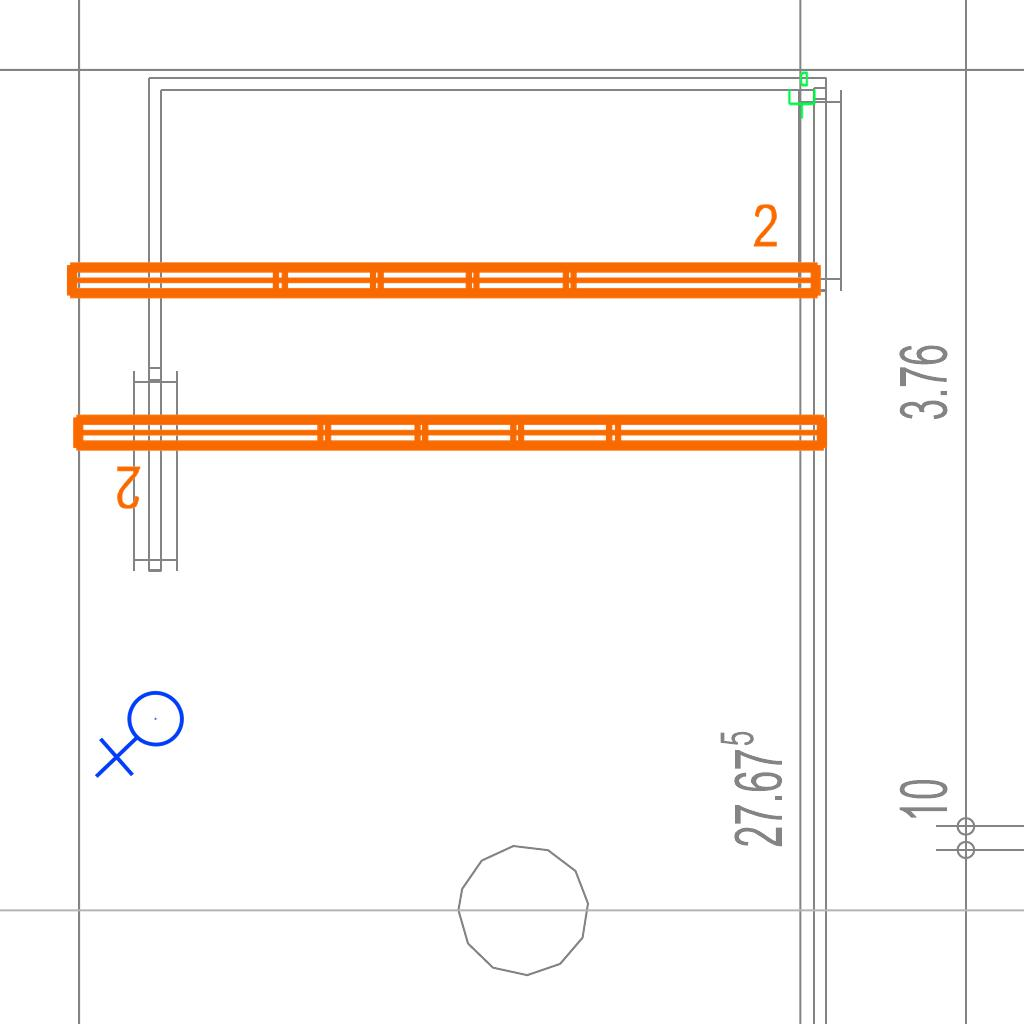Ambulanz_Pendelleuchte_LED: (56, 199, 830, 311), (64, 402, 838, 514)
Datenanschluss_einfach: (784, 70, 818, 120)
Elektroanschluss_allgemein_230V_Geraeteanschlussdose_230V: (94, 689, 193, 783)
